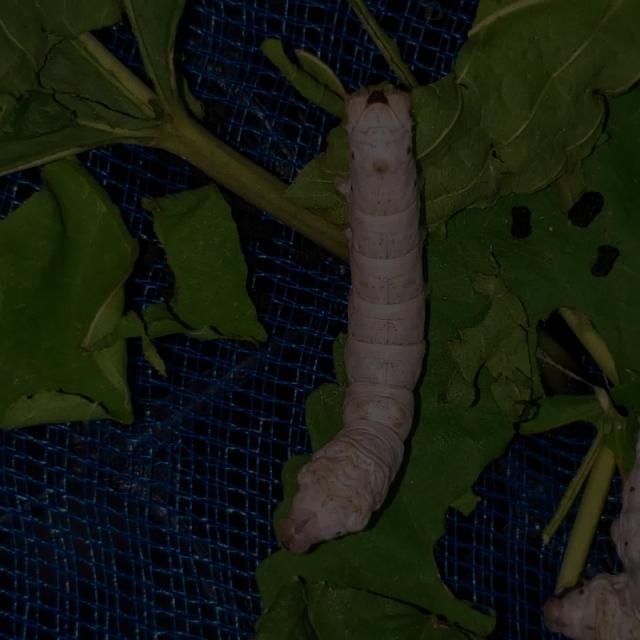Healthy: (276, 80, 444, 554)
